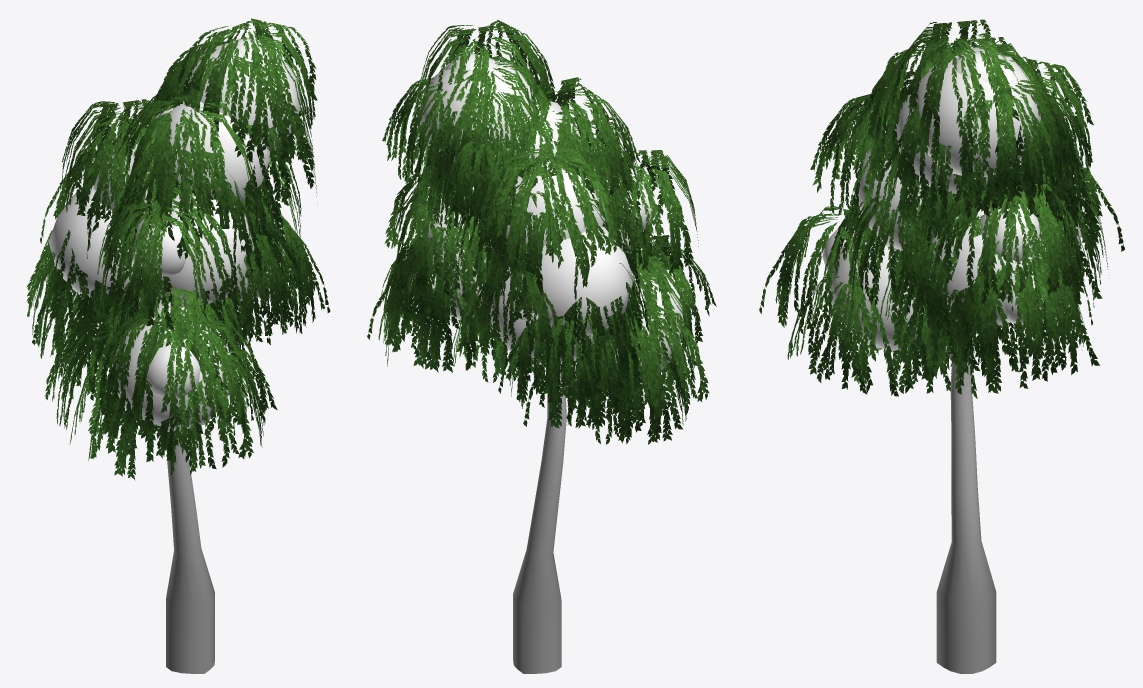
3 renders of one model, left to right at view 1: azimuth 30°, elevation 25°; view 2: azimuth 150°, elevation 25°; view 3: azimuth 270°, elevation 25°, orthographic. The views are drawn at different scales.
Visible parts, largest first — view 1: bj_1_s15931_leaves_LOD0, bj_1_s15931_shadow_LOD0, bj_1_s15931_trunk_LOD0; view 2: bj_1_s15931_leaves_LOD0, bj_1_s15931_shadow_LOD0, bj_1_s15931_trunk_LOD0; view 3: bj_1_s15931_leaves_LOD0, bj_1_s15931_shadow_LOD0, bj_1_s15931_trunk_LOD0.
Boxes of the visible parts, x1=… form: bj_1_s15931_leaves_LOD0: x1=26, y1=18, x2=330, y2=480; bj_1_s15931_shadow_LOD0: x1=48, y1=37, x2=301, y2=431; bj_1_s15931_trunk_LOD0: x1=166, y1=431, x2=214, y2=673; bj_1_s15931_leaves_LOD0: x1=367, y1=19, x2=716, y2=444; bj_1_s15931_shadow_LOD0: x1=410, y1=53, x2=688, y2=381; bj_1_s15931_trunk_LOD0: x1=513, y1=364, x2=577, y2=673; bj_1_s15931_leaves_LOD0: x1=759, y1=19, x2=1124, y2=398; bj_1_s15931_shadow_LOD0: x1=822, y1=47, x2=1081, y2=351; bj_1_s15931_trunk_LOD0: x1=936, y1=334, x2=996, y2=673.
Size of what is drawn, in the model's own units: 5.67 by 11.19 by 5.69.
